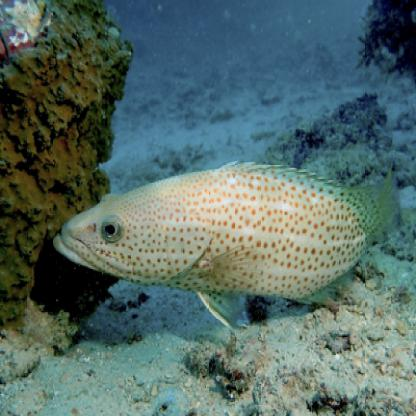Serranidae -Groupers-: (49, 156, 401, 338)
